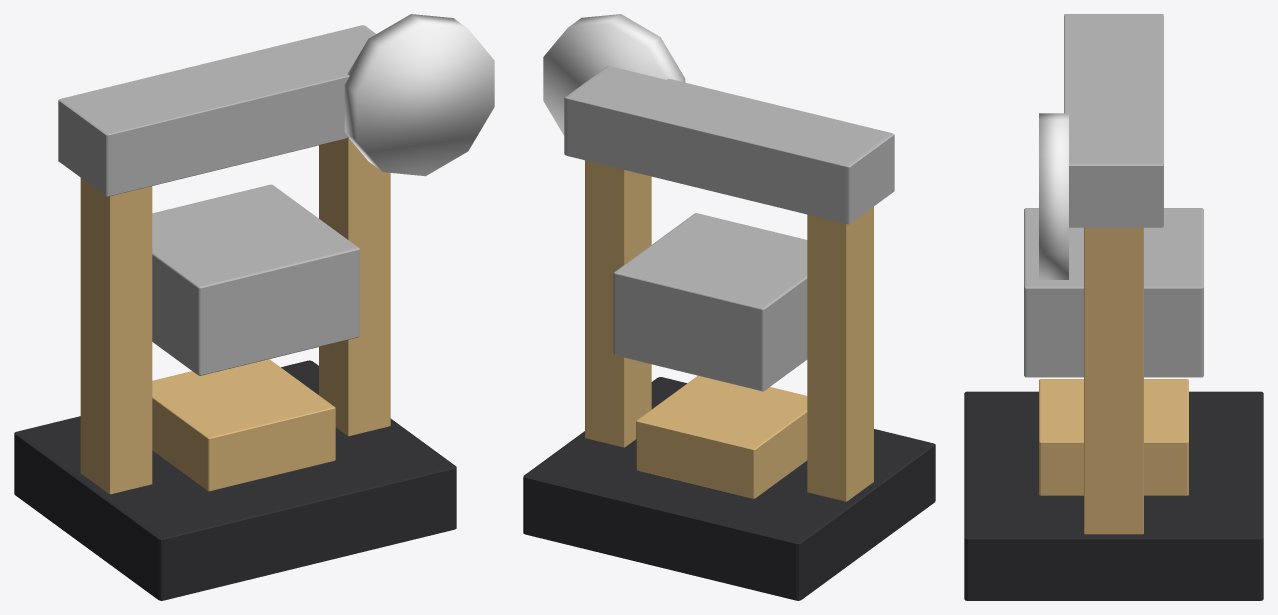
Rendered from press.glb.
3 views of the same model, side by side, from view 1: azimuth 30°, elevation 25°; view 2: azimuth 150°, elevation 25°; view 3: azimuth 270°, elevation 25° (orthographic). The views are drawn at different scales.
Visible parts, largest first — view 1: machines/press; view 2: machines/press; view 3: machines/press.
Part boxes in pixels (x1,y1,x2,y2): machines/press: (14,14,494,600); machines/press: (523,14,935,600); machines/press: (964,14,1263,600).
Size of the model in its own units: 0.8817 by 1.07 by 0.6.
